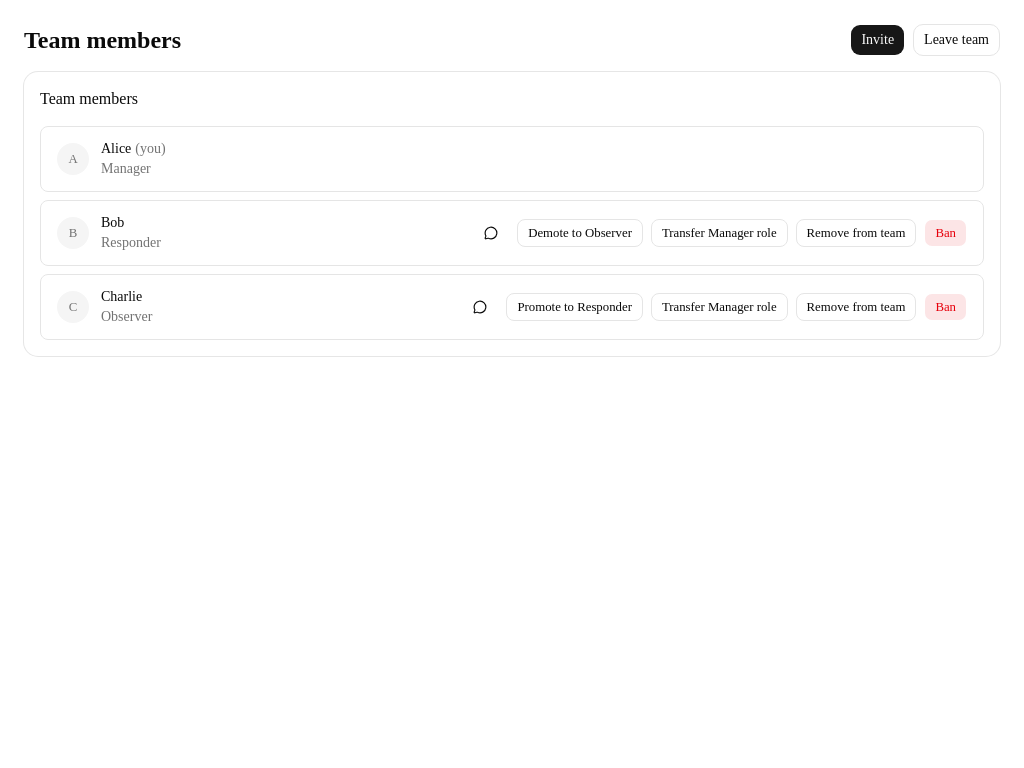
Test case: MembersClient › opens the leave confirmation dialog when leave is clicked
The width and height of the screenshot is (1024, 768).
Expected: the text "Alice" is shown, [101, 141, 131, 156]
Click the button "Leave team": (957, 40) [913, 24, 1000, 56]
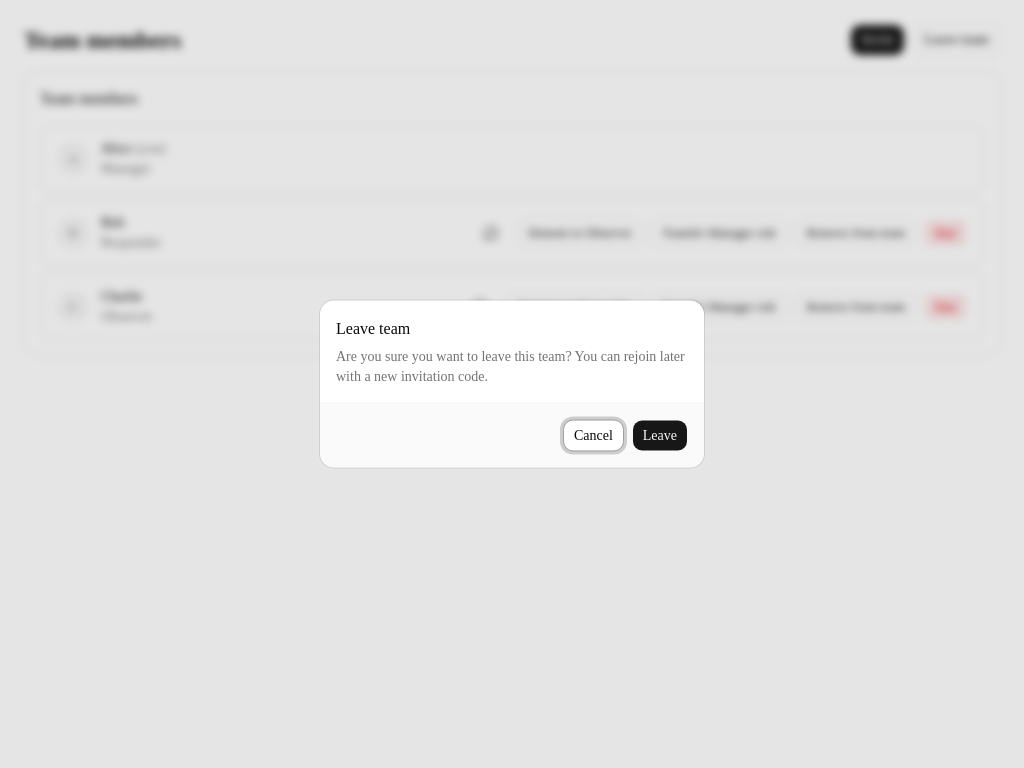
Expected: the button "Cancel" is shown, [563, 420, 624, 452]
